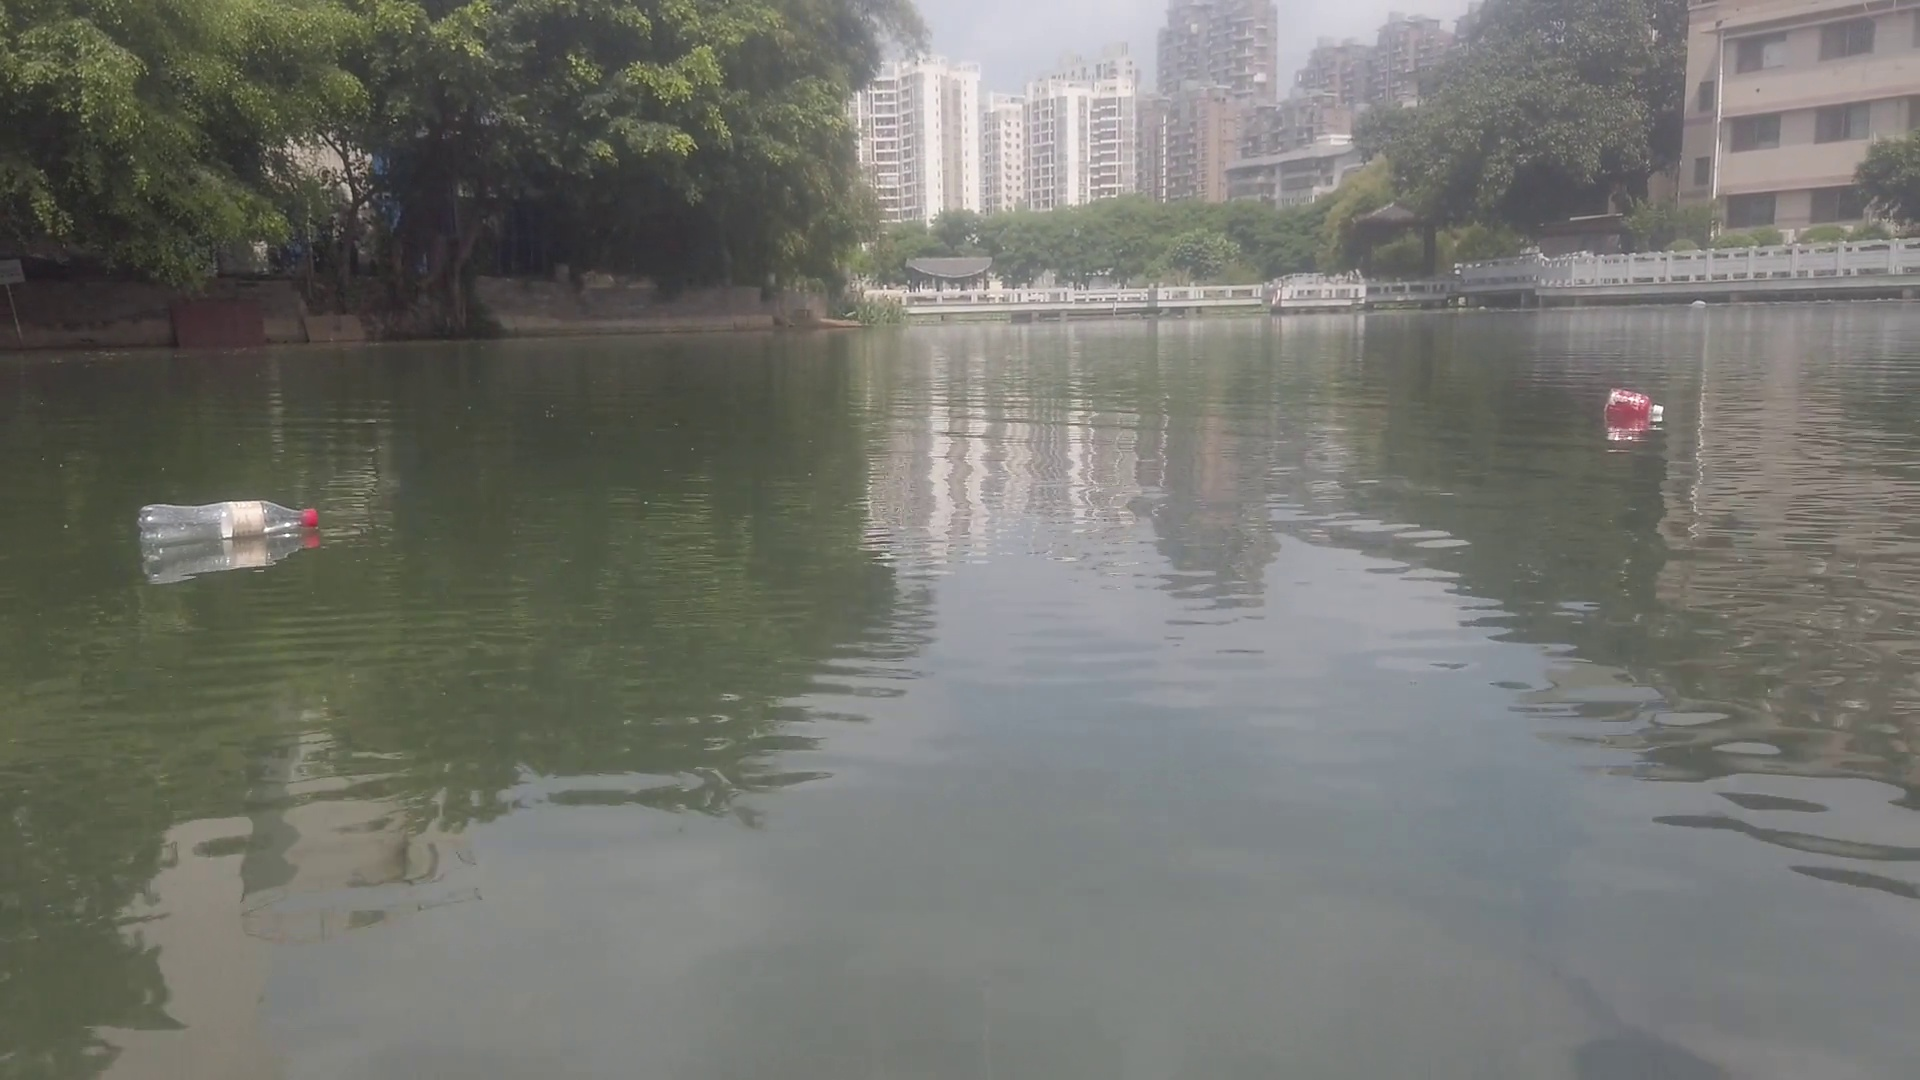bottle: (138, 502, 316, 541), (1604, 388, 1663, 421)
plastic: (1688, 297, 1706, 306)
